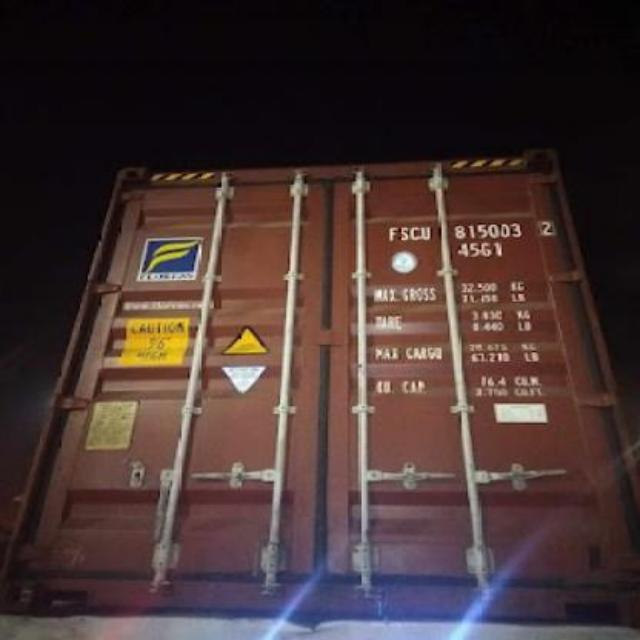0: (488, 218, 500, 238), (498, 218, 508, 238)
1: (466, 218, 476, 236)
2: (538, 214, 554, 236)
3: (508, 216, 524, 238)
5: (476, 216, 488, 240)
8: (452, 220, 466, 242)
C: (410, 218, 420, 242)
F: (386, 220, 398, 244)
S: (398, 220, 410, 243)
U: (420, 220, 432, 243)
